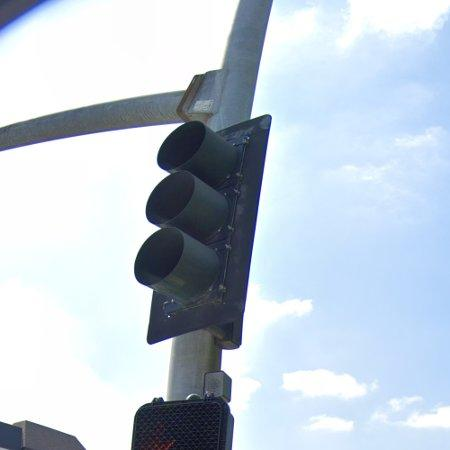traffic lights: (135, 115, 272, 349)
